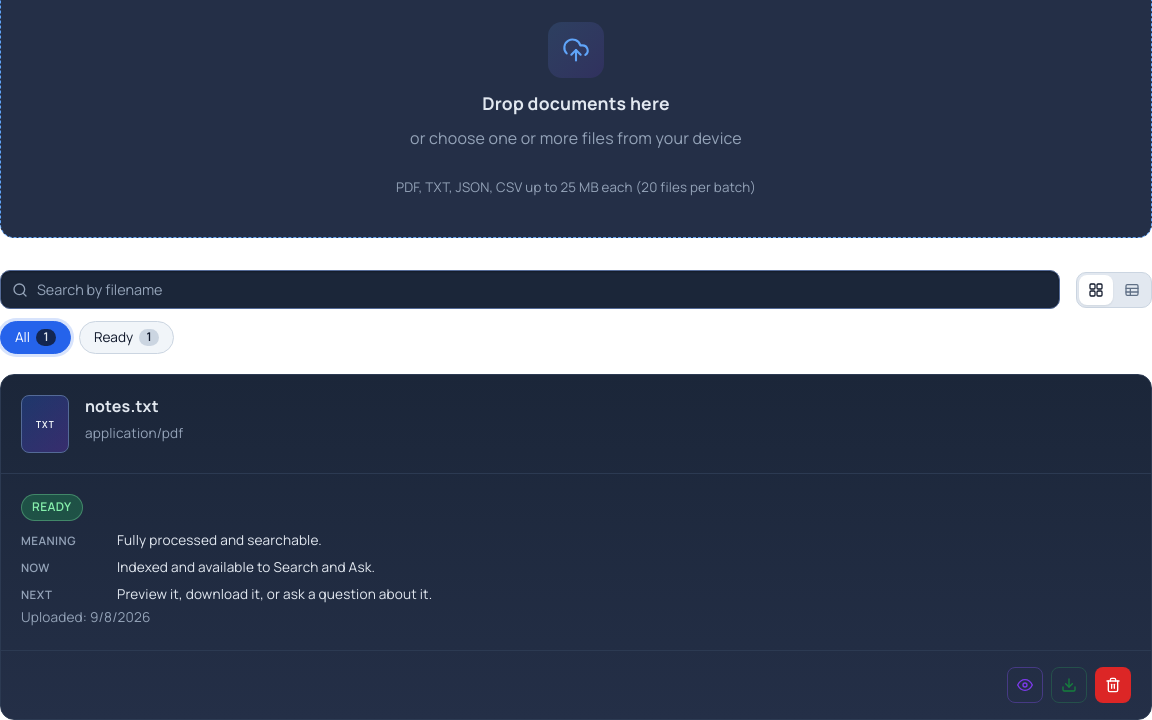
Scenario: DocumentsPage preview › shows the truncation note for long previews
(page scrolled)
What coordinates should you click on to do the following:
click the button named "Preview document"
I would click on:
 (1025, 685)
Its box is [1007,667,1043,703].
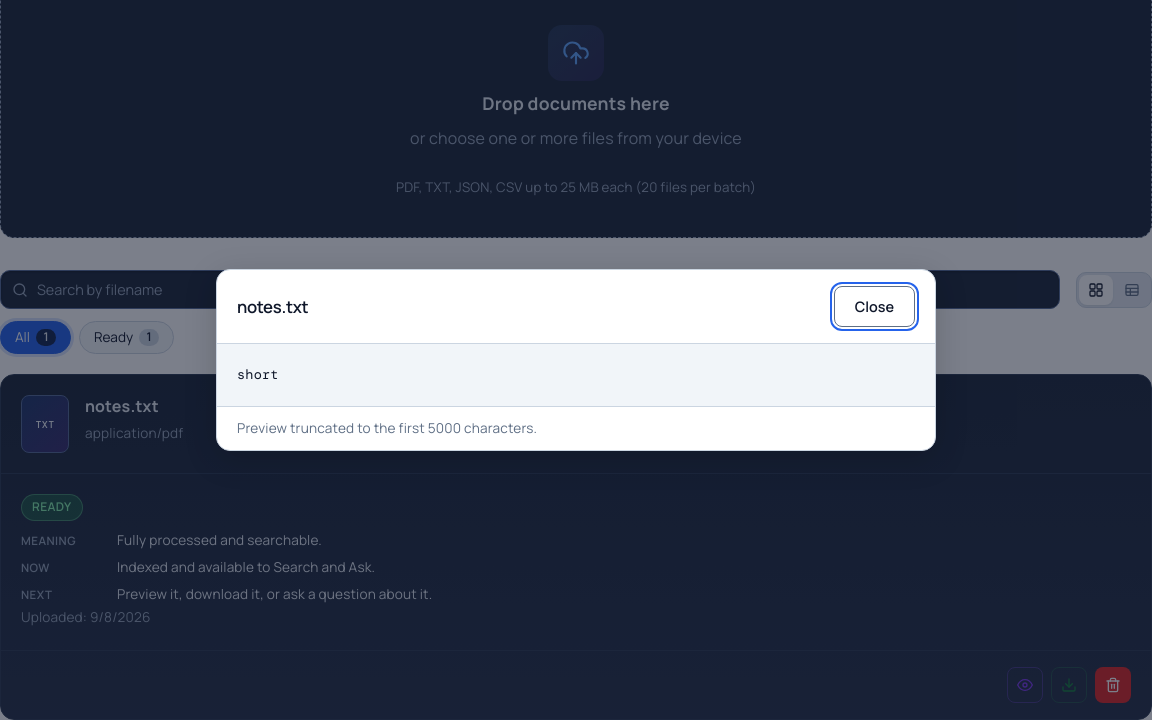
Result: the text "Preview truncated to the first 5000 characters." is shown at [217,406,935,450]
